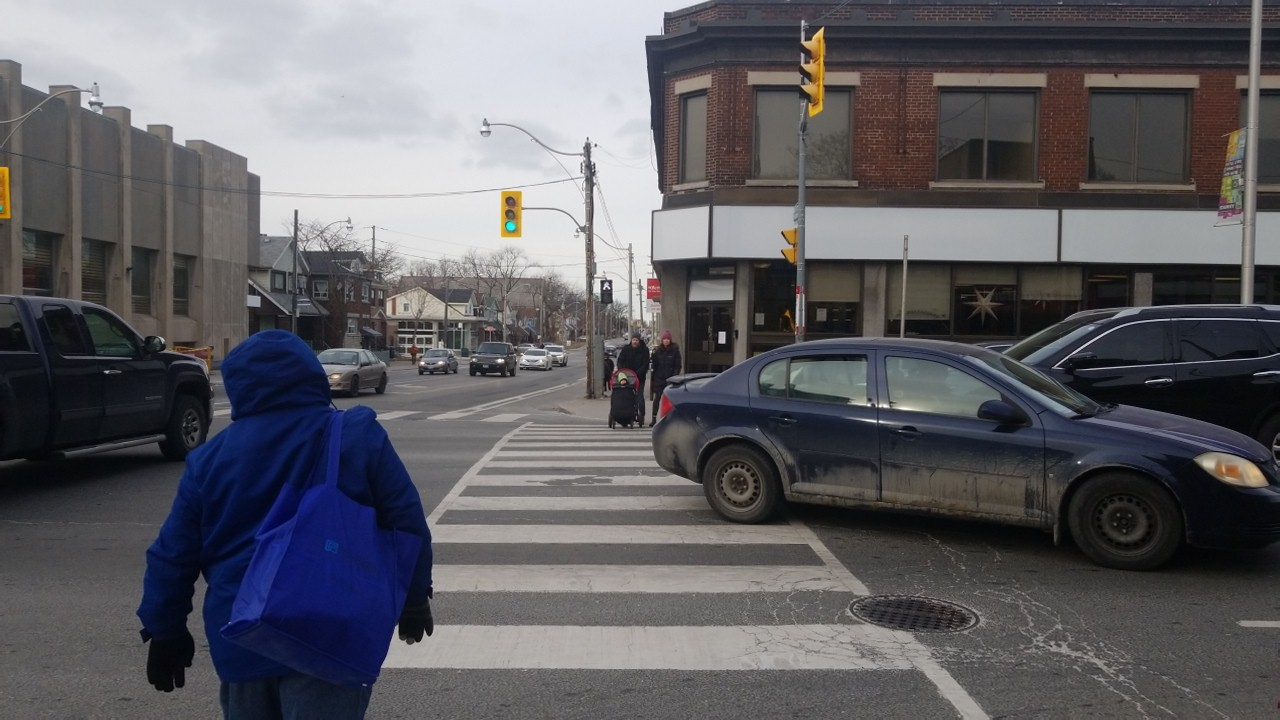light: (598, 279, 614, 305)
